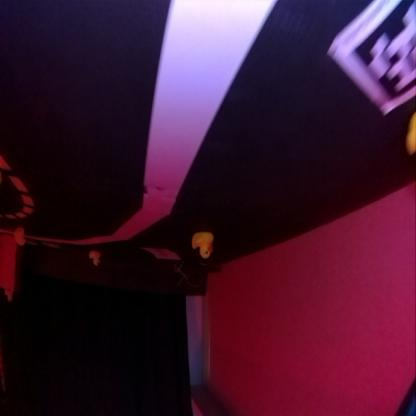Duckie: (191, 232, 213, 259), (12, 228, 26, 247), (88, 250, 100, 266)
QR code: (334, 3, 414, 112)
